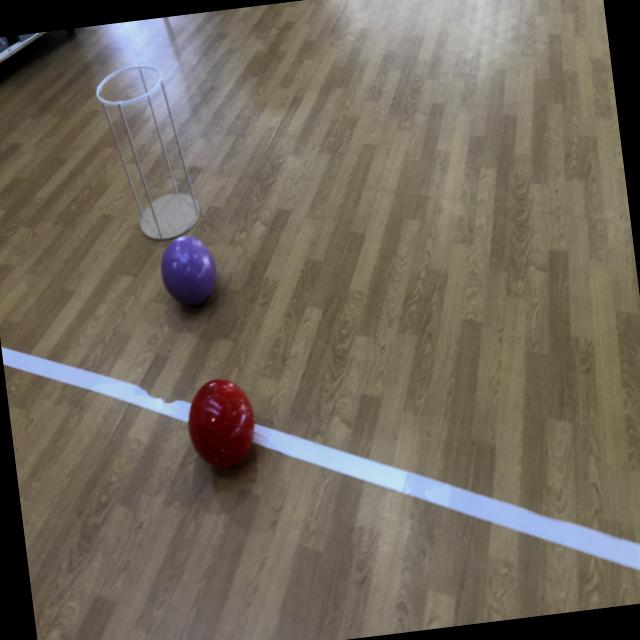purple_ball: (158, 231, 218, 307)
red_ball: (182, 373, 262, 478)
